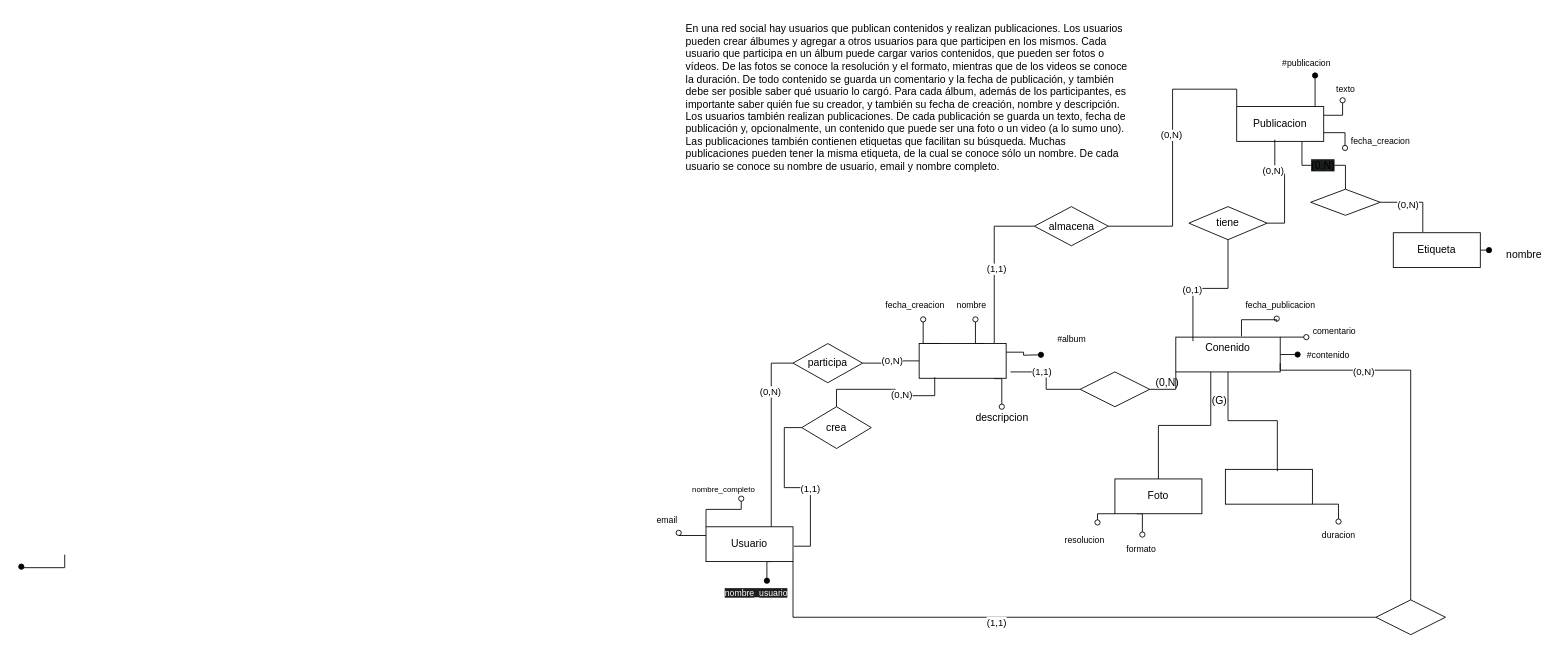
Some shapes in this 1565 by 650 pixel diagram are drawn without their labels. Here are the shapes that lost their labels. From the top down, the centre of each, then its label:
(x=1345, y=201): posee
(x=962, y=360): Album
(x=1114, y=389): contiene
(x=1268, y=486): Video
(x=1410, y=617): sube
